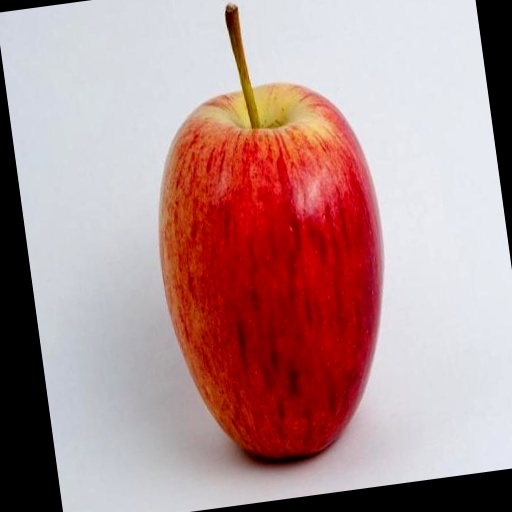fruit: (159, 84, 382, 458)
